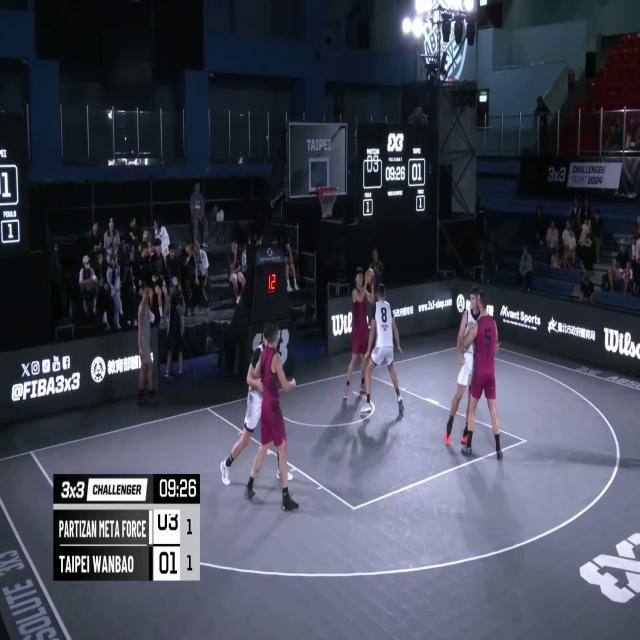ball: (362, 262, 378, 287)
hoop: (318, 182, 342, 226)
player: (218, 310, 296, 496), (242, 324, 298, 512), (444, 288, 492, 458), (457, 289, 501, 463), (362, 283, 403, 415), (341, 262, 376, 405)
